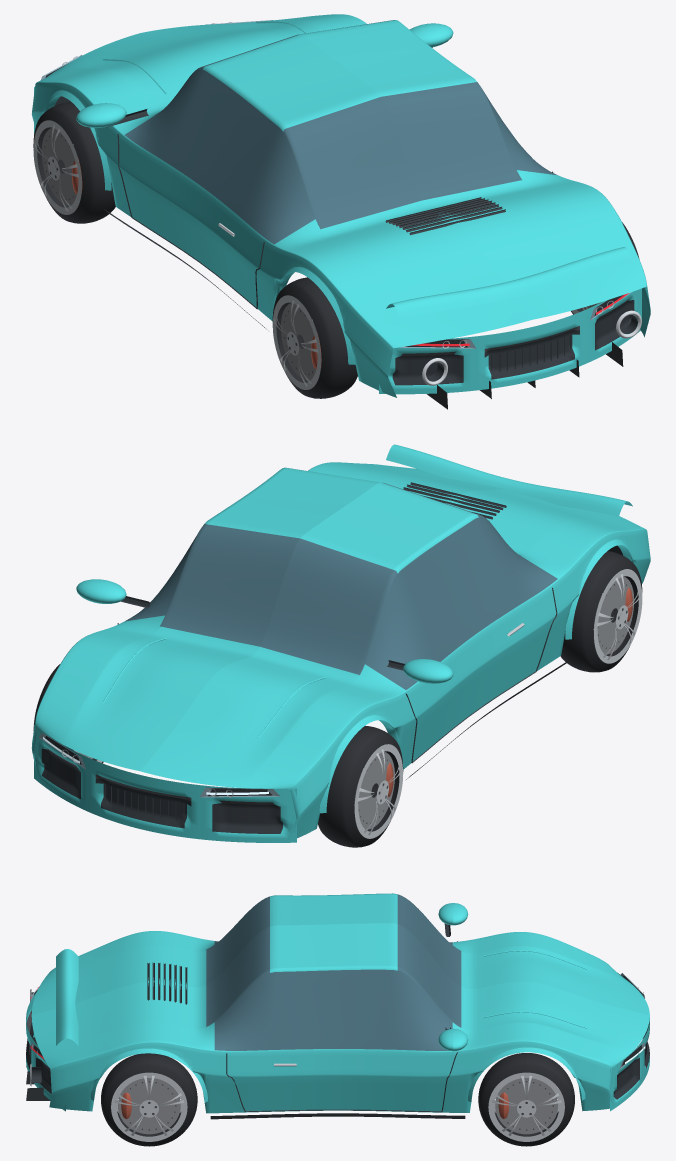
File: vortex_s.glb
The picture shows the model from 3 angles, top to bottom: view 1: azimuth 30°, elevation 25°; view 2: azimuth 150°, elevation 25°; view 3: azimuth 270°, elevation 25°; orthographic projection. The views are drawn at different scales.
Visible parts, largest first — view 1: Body, Wheel_2, Wheel_0; view 2: Body, Wheel_0, Wheel_2; view 3: Body, Wheel_1, Wheel_3.
Part boxes in pixels (x1=…): Body: x1=31, y1=14, x2=650, y2=409; Wheel_2: x1=272, y1=277, x2=357, y2=398; Wheel_0: x1=33, y1=102, x2=115, y2=223; Body: x1=31, y1=444, x2=650, y2=842; Wheel_0: x1=318, y1=725, x2=403, y2=847; Wheel_2: x1=560, y1=551, x2=642, y2=672; Body: x1=26, y1=893, x2=649, y2=1119; Wheel_1: x1=478, y1=1053, x2=574, y2=1146; Wheel_3: x1=101, y1=1053, x2=197, y2=1146.
Size of the model in its own units: 2.39 by 1.29 by 4.55.
